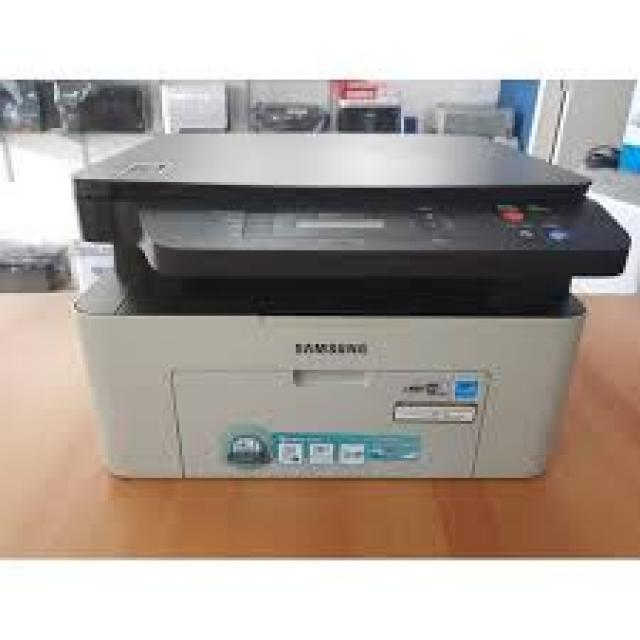printer: (72, 129, 632, 483)
